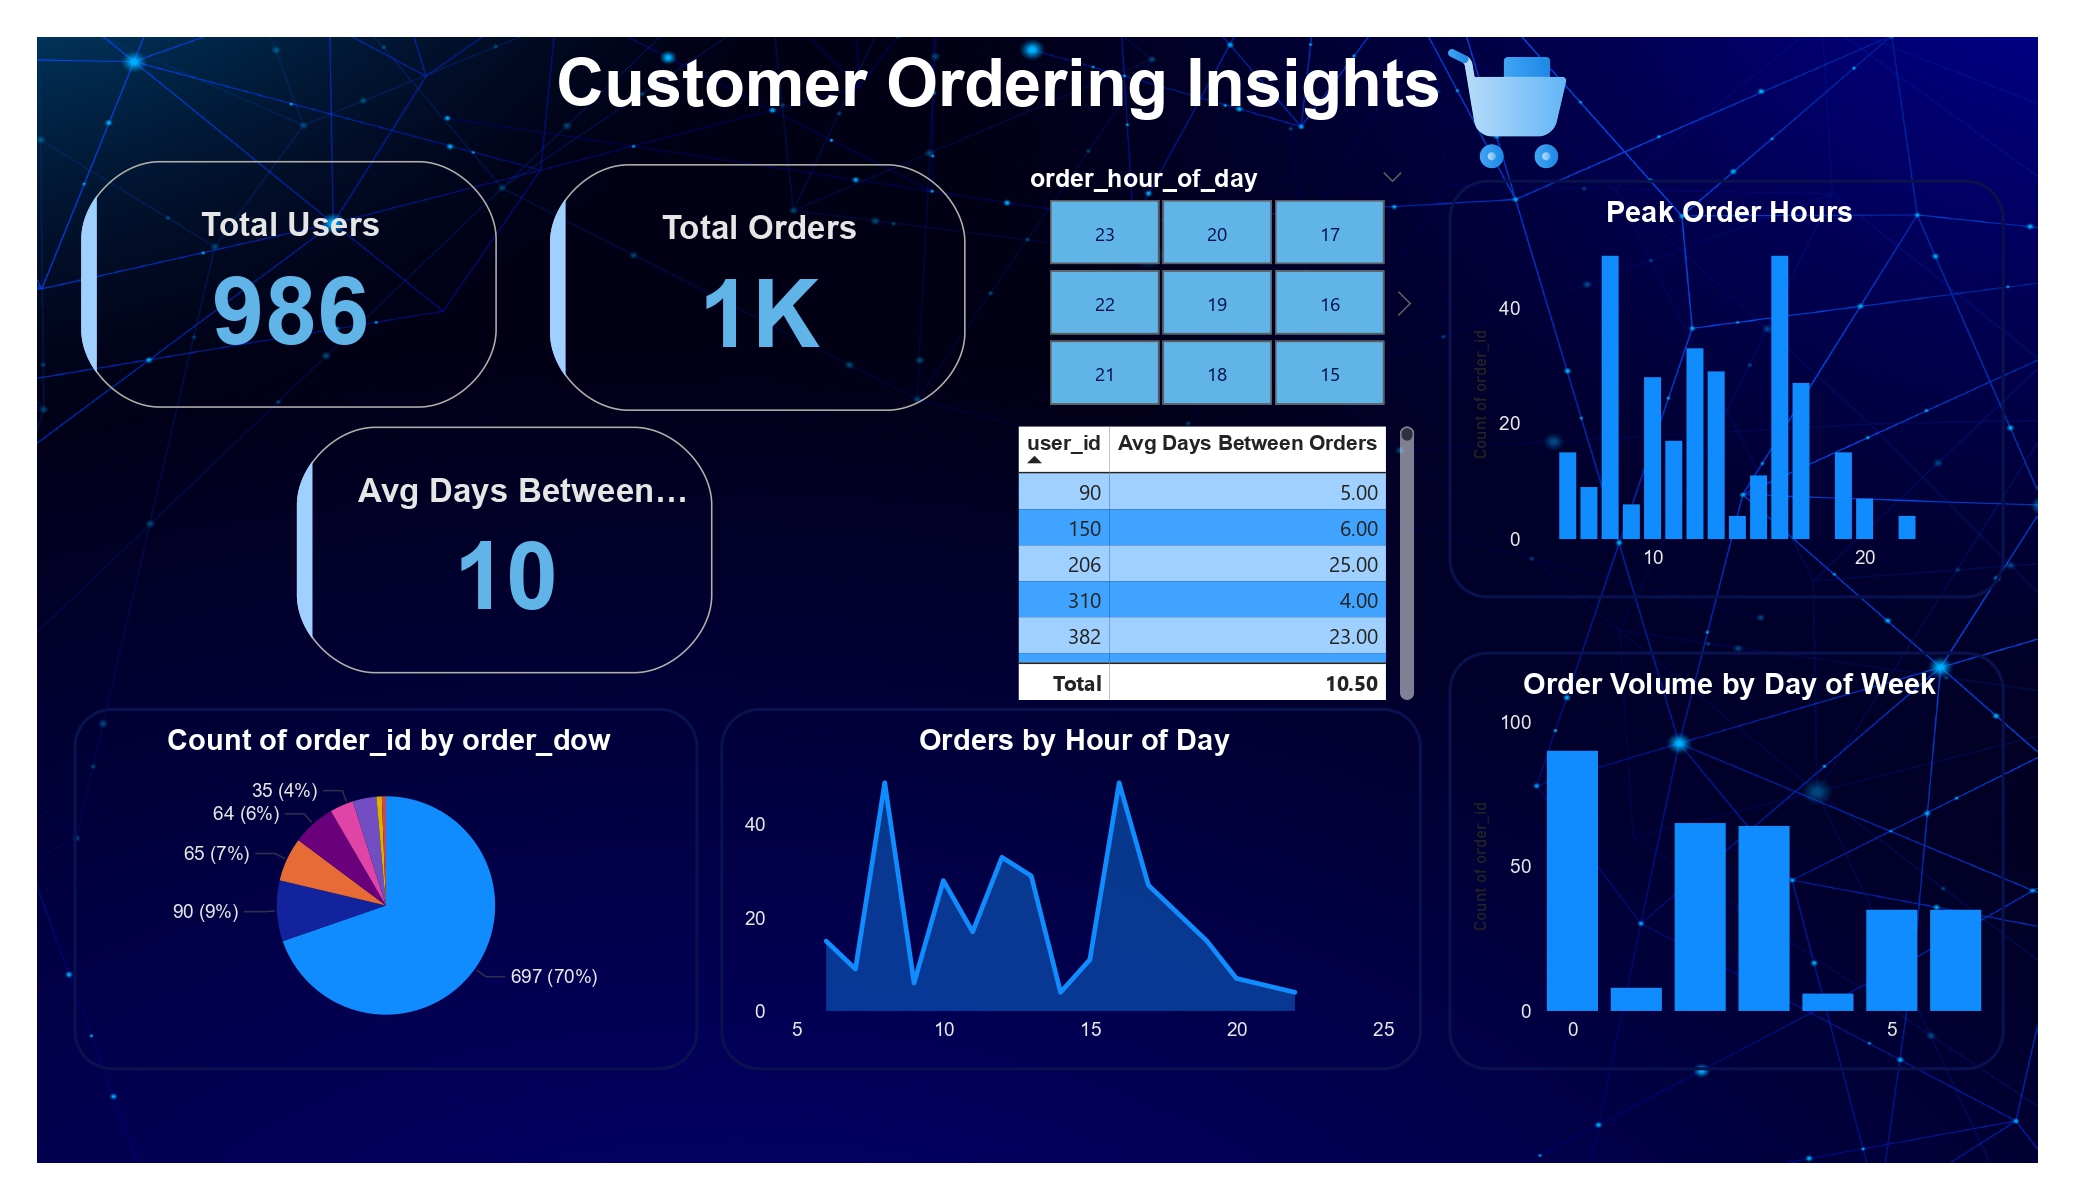

Layout of this report page (visuals, bound fields, positions):
{"tool":"powerbi","page":{"name":"Customer Ordering Insights","canvas":[1280,720],"ordinal":1},"visuals":[{"type":"tableEx","fields":{"Values":["Orders.user_id","Orders.Avg Days Between Orders"]},"box":[621.7,243.8,264.6,185.2],"z":0},{"type":"columnChart","title":"Peak Order Hours","fields":{"Category":["Orders.order_hour_of_day"],"Y":["CountNonNull(Order_Products_Train.order_id)"]},"box":[903.3,90.7,355.3,268.3],"z":1000},{"type":"columnChart","title":"Order Volume by Day of Week","fields":{"Y":["CountNonNull(Order_Products_Train.order_id)"],"Category":["Orders.order_dow"]},"box":[903.3,393.1,355.3,268.3],"z":2000},{"type":"cardVisual","fields":{"Data":["Orders.Total Users"]},"box":[22.7,73.7,275.9,168.2],"z":3000},{"type":"cardVisual","fields":{"Data":["Order_Products_Train.Total Orders"]},"box":[323.2,75.6,275.9,168.2],"z":4000},{"type":"cardVisual","fields":{"Data":["Orders.Avg Days Between Orders"]},"box":[160.6,243.8,275.9,168.2],"z":5000},{"type":"lineChart","title":"Orders by Hour of Day","fields":{"Category":["Orders.order_hour_of_day"],"Y":["CountNonNull(Order_Products_Train.order_id)"]},"box":[436.5,429,449.8,232.4],"z":6000},{"type":"slicer","fields":{"Values":["Orders.order_hour_of_day"]},"box":[621.7,77.5,264.6,164.4],"z":7000},{"type":"pieChart","fields":{"Category":["Orders.order_dow"],"Y":["CountNonNull(Order_Products_Train.order_id)"]},"box":[22.7,429,400.6,232.4],"z":8000},{"type":"textbox","box":[326.9,0,627.4,73.7],"z":9000},{"type":"image","box":[865.5,0,149.3,90.7],"z":10000}]}

Visuals, with their boxes in screenshot pixels (x1, y1, x2, y2):
tableEx - Orders.user_id x Orders.Avg Days Between Orders: bbox=(1009, 418, 1422, 708)
"Peak Order Hours" columnChart: bbox=(1449, 179, 2004, 598)
"Order Volume by Day of Week" columnChart: bbox=(1449, 652, 2004, 1071)
cardVisual - Orders.Total Users: bbox=(73, 153, 504, 415)
cardVisual - Order_Products_Train.Total Orders: bbox=(542, 156, 974, 418)
cardVisual - Orders.Avg Days Between Orders: bbox=(288, 418, 720, 681)
"Orders by Hour of Day" lineChart: bbox=(720, 708, 1422, 1071)
slicer - Orders.order_hour_of_day: bbox=(1009, 159, 1422, 415)
pieChart - Orders.order_dow x CountNonNull(Order_Products_Train.order_id): bbox=(73, 708, 699, 1071)
textbox: bbox=(548, 38, 1529, 153)
image: bbox=(1390, 38, 1623, 179)
